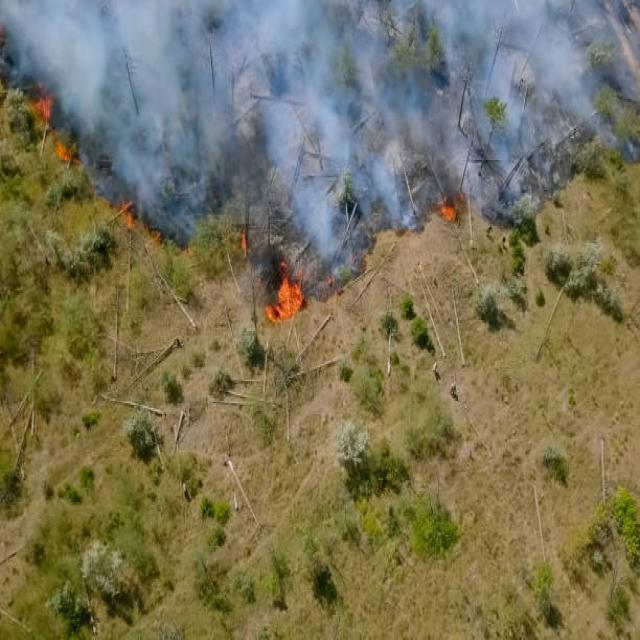Fire: (26, 86, 70, 164), (265, 273, 306, 323), (118, 195, 136, 229), (438, 198, 458, 226)
Smoke: (0, 0, 640, 262)
